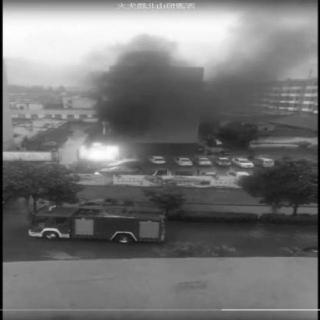Fire: (40, 128, 162, 172)
